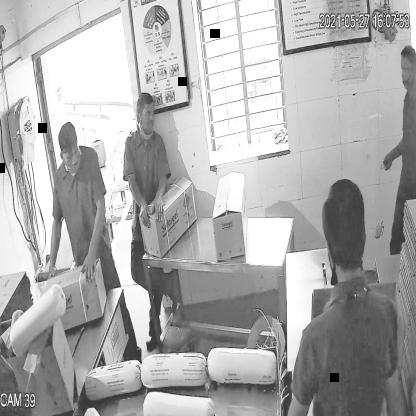no_goggles: (60, 146, 81, 166)
